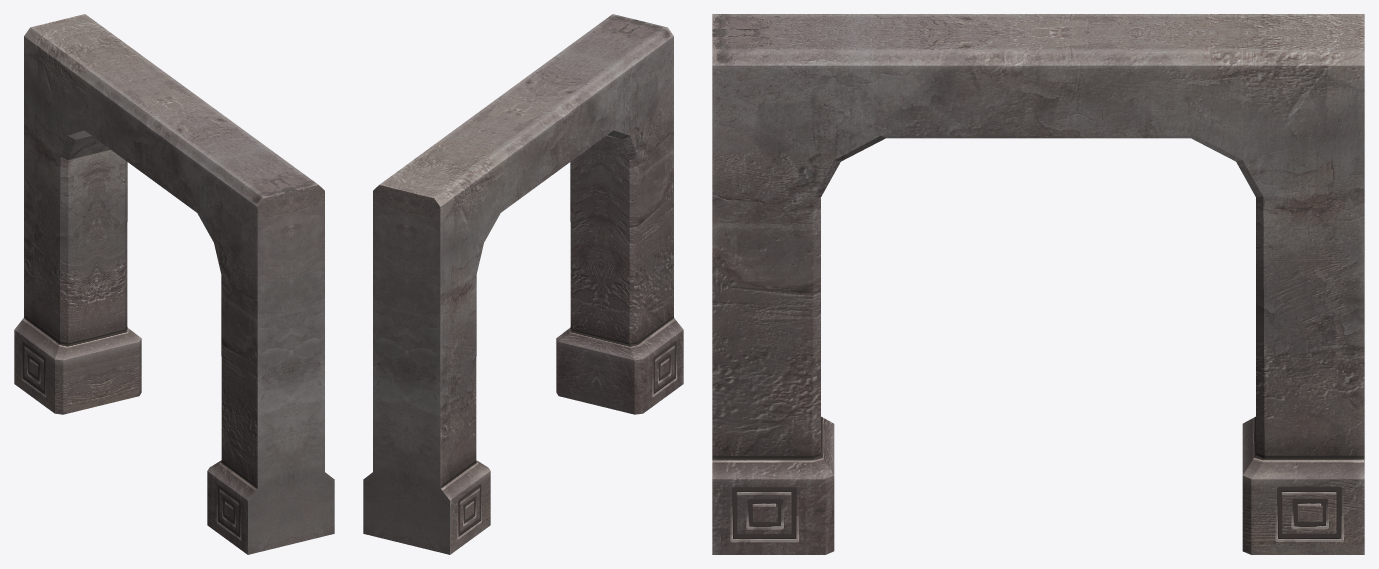
File: StoneWallArch.fbx
3 views of the same model, side by side, from view 1: azimuth 30°, elevation 25°; view 2: azimuth 150°, elevation 25°; view 3: azimuth 270°, elevation 25° (orthographic). The views are drawn at different scales.
Parts seen in each view (by area): view 1: Arch_003; view 2: Arch_003; view 3: Arch_003.
Part boxes in pixels (x1,y1,x2,y2): Arch_003: (14, 14, 334, 554); Arch_003: (363, 14, 683, 554); Arch_003: (712, 14, 1364, 554).
Bounding box in the file's own units: 42.42 × 165 × 198.
